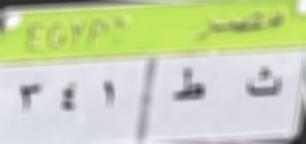1: (97, 75, 122, 113)
3: (17, 78, 45, 117)
4: (57, 79, 81, 114)
Taa: (170, 62, 210, 108)
thaa: (244, 60, 287, 103)
